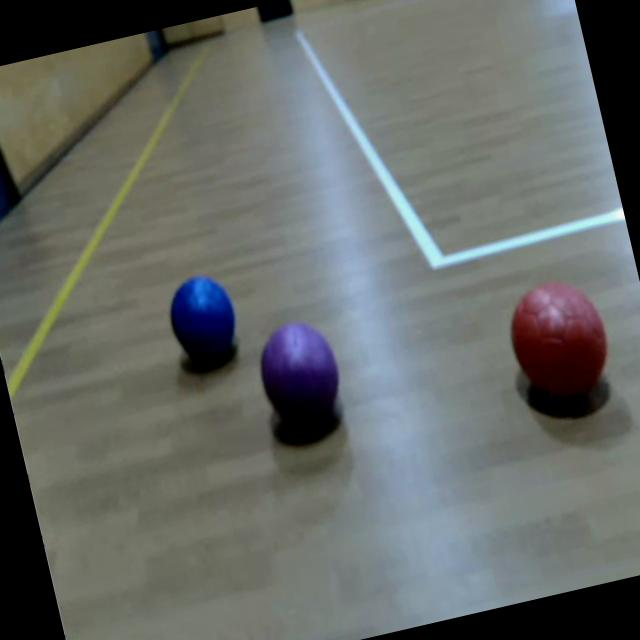blue_ball: (163, 269, 244, 366)
purple_ball: (250, 312, 347, 432)
red_ball: (500, 270, 617, 409)
